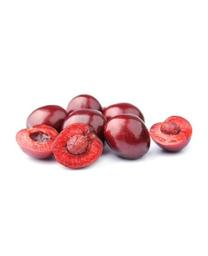cherry: (52, 123, 104, 169), (104, 114, 150, 159), (25, 103, 70, 139), (63, 109, 106, 146), (15, 124, 58, 160), (102, 104, 144, 135), (67, 93, 101, 120)
